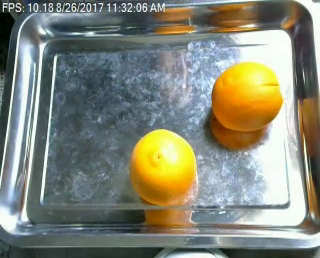Orange: (130, 127, 197, 206), (211, 61, 284, 133)
